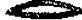Mouth: (4, 0, 82, 19)
